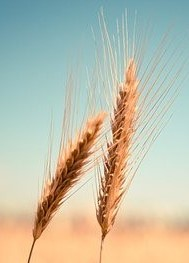Healthy Wheat: (27, 115, 102, 236)
